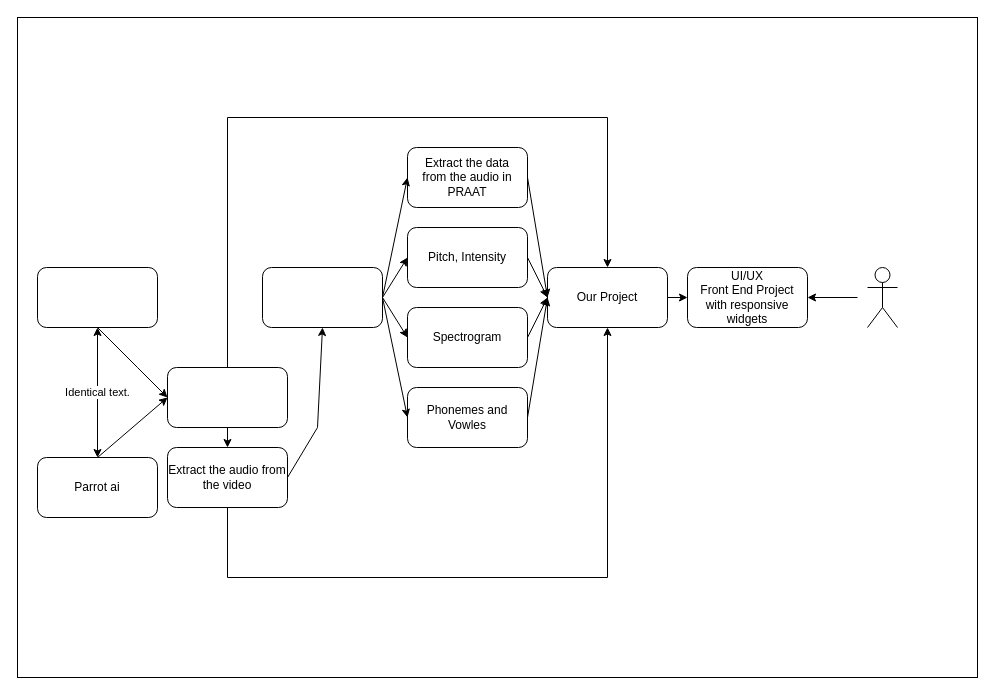
Some shapes in this 995 by 695 pixel diagram are drawn without their labels. The shapes that lost their labels are listed below. From the top down, each one's centre as x and y in pixels, then its label:
the point at 97,297: Youtube
the point at 322,297: PRAAT
the point at 882,297: User
the point at 227,397: Extract the video
